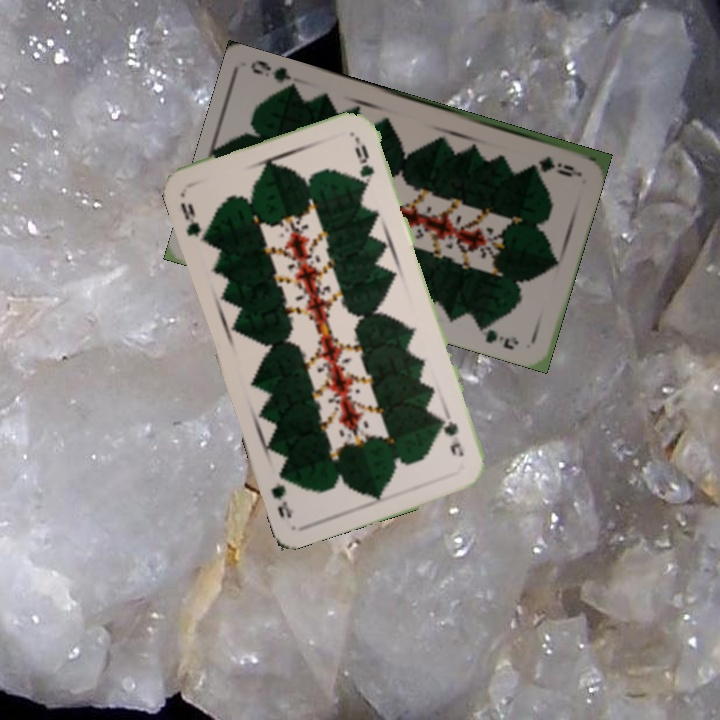G9: (176, 198, 211, 246), (438, 409, 467, 459), (534, 152, 577, 178)
